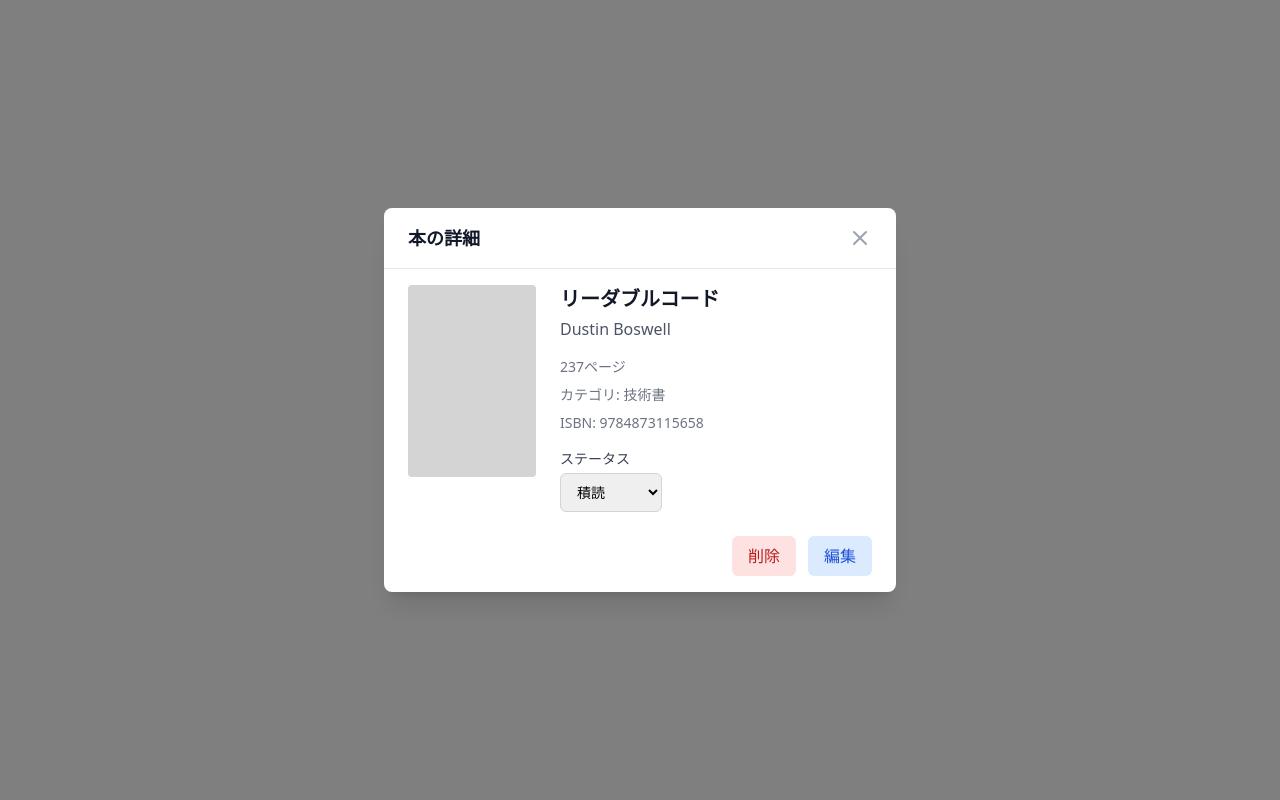
Test: BookDetailModal › 「削除」ボタンをクリックすると確認ダイアログが表示される
Step 1. Click the button "削除" → {"x": 764, "y": 556}, box [732,536,796,576]
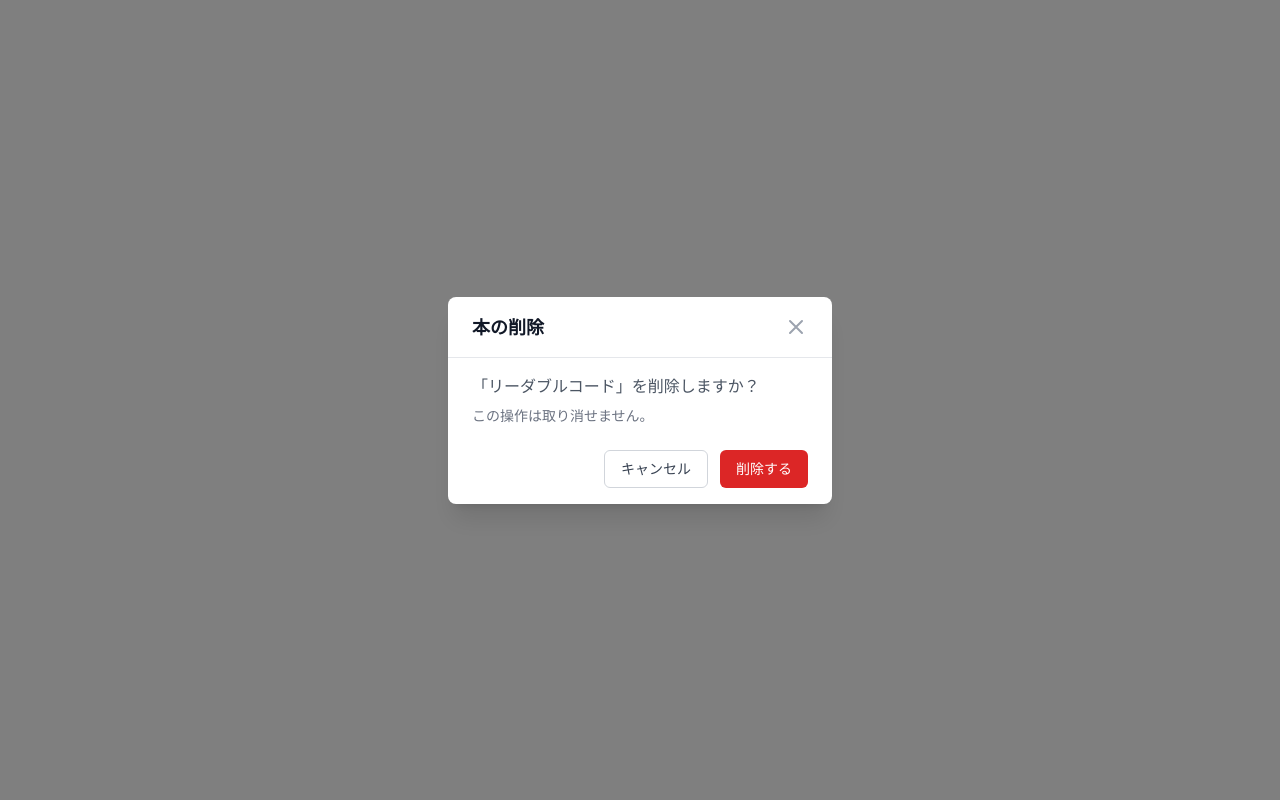
Now the heading "本の削除" is shown, box [472,312,544,340]
Now the text "「リーダブルコード」を削除しますか？" is shown, box [472,374,808,398]
